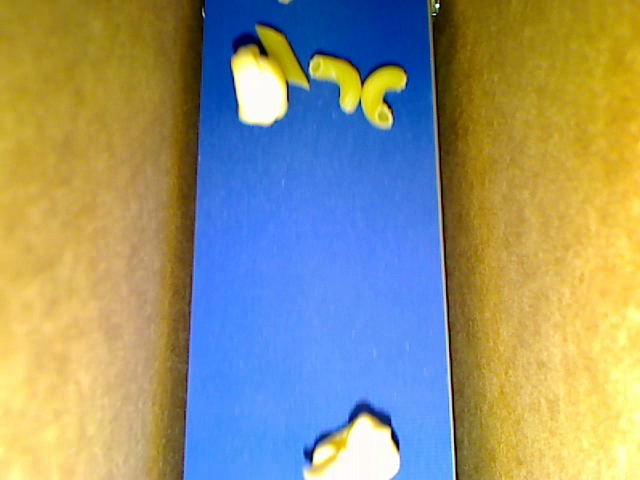elbow: (309, 55, 360, 114), (361, 66, 406, 129)
penne: (255, 24, 310, 89)
tortellini: (303, 411, 401, 479), (230, 45, 288, 126)
